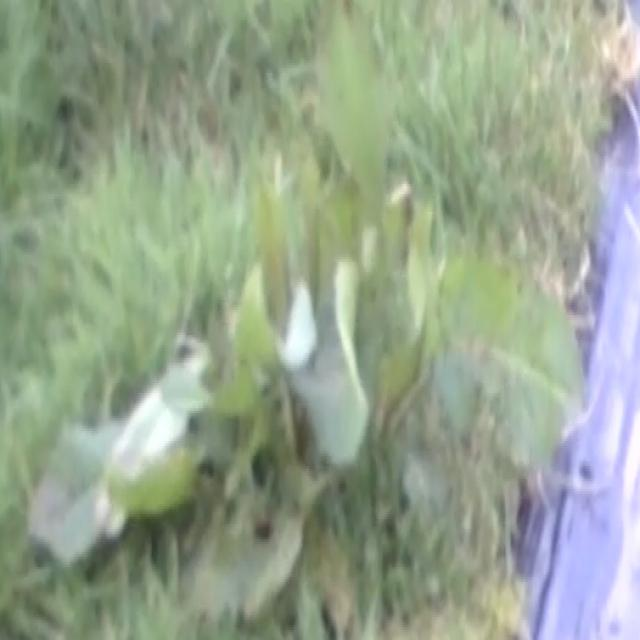organic waste: (35, 34, 617, 619)
